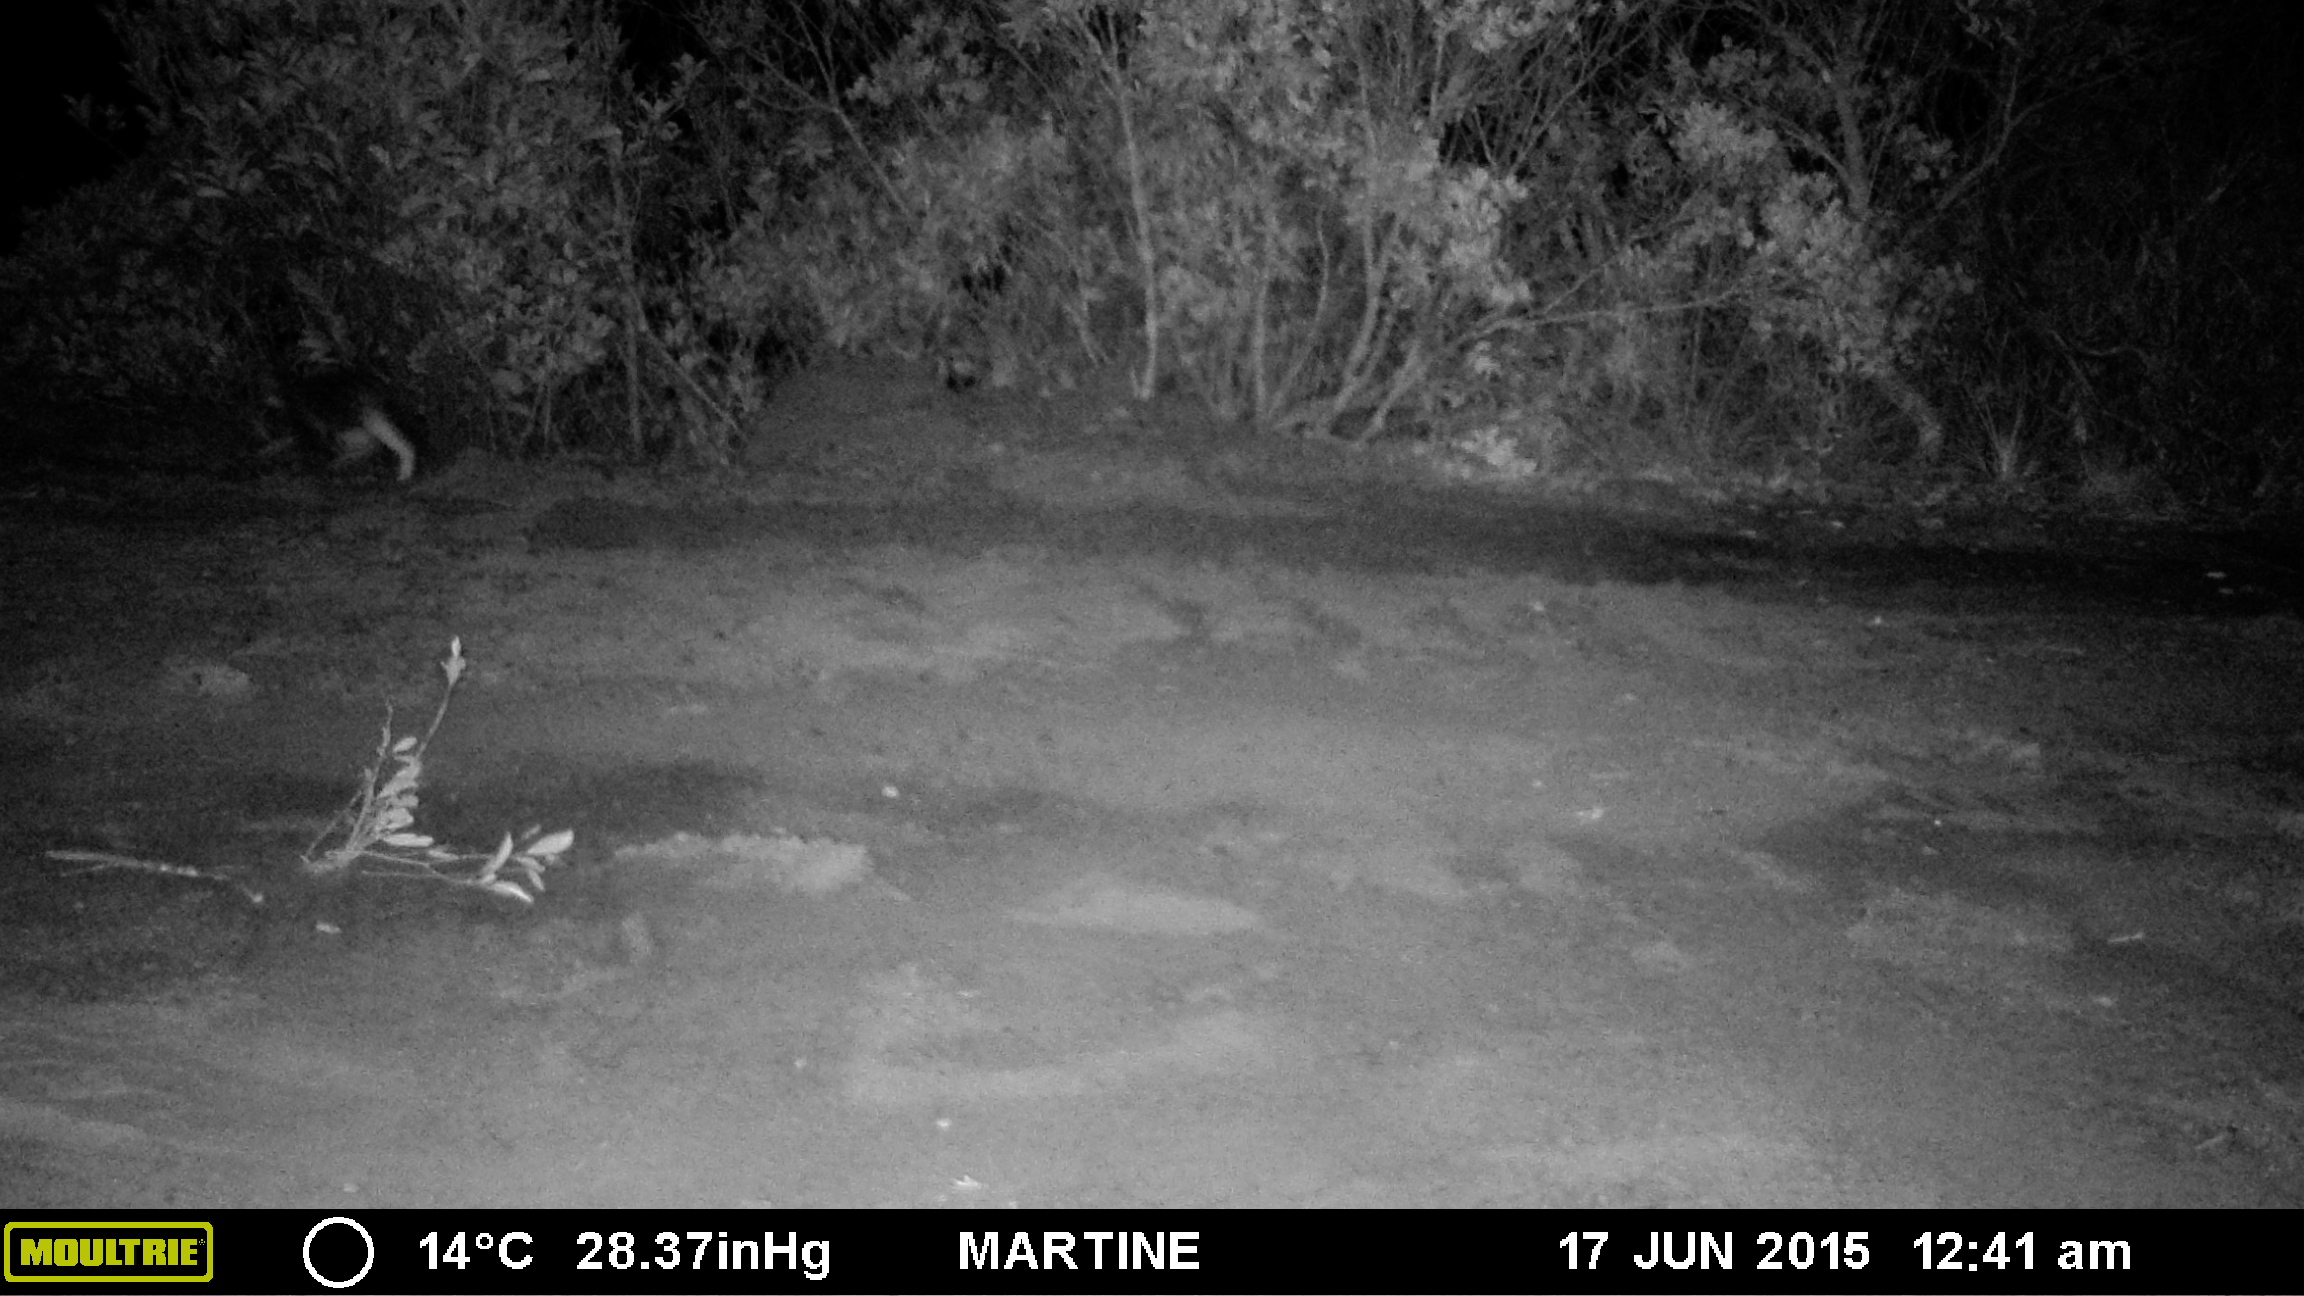cat: (252, 354, 460, 494)
